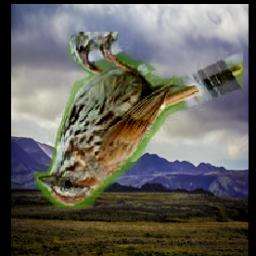Sparrow: (35, 33, 244, 208)
